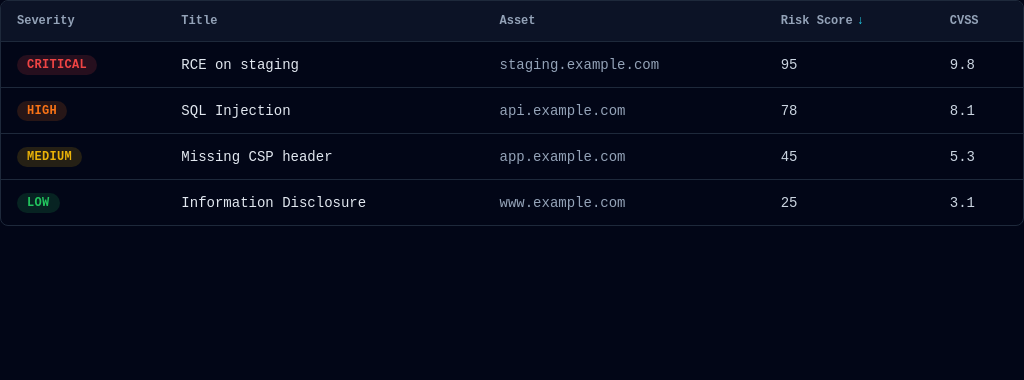
Test case: FindingsTable › collapses an expanded row when it is clicked again
Click the text "RCE on staging".
click(512, 64)  # box [1, 42, 1023, 88]
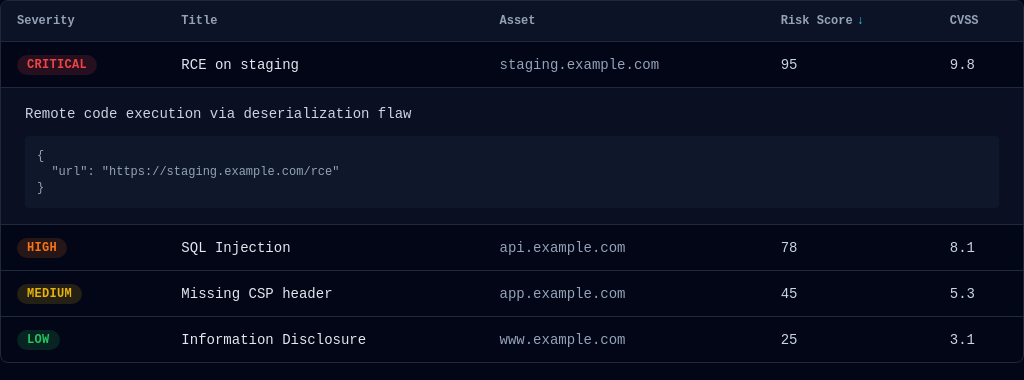
Check: the text "Remote code execution via deserialization flaw" is shown, box [25, 106, 412, 122]
Click the text "RCE on staging".
click(512, 64)  # box [1, 42, 1023, 88]
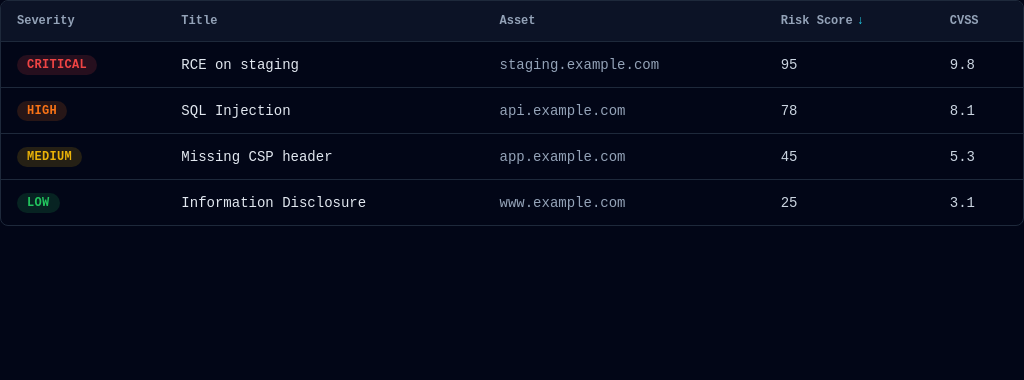
Check: the text "Remote code execution via deserialization flaw" is gone
